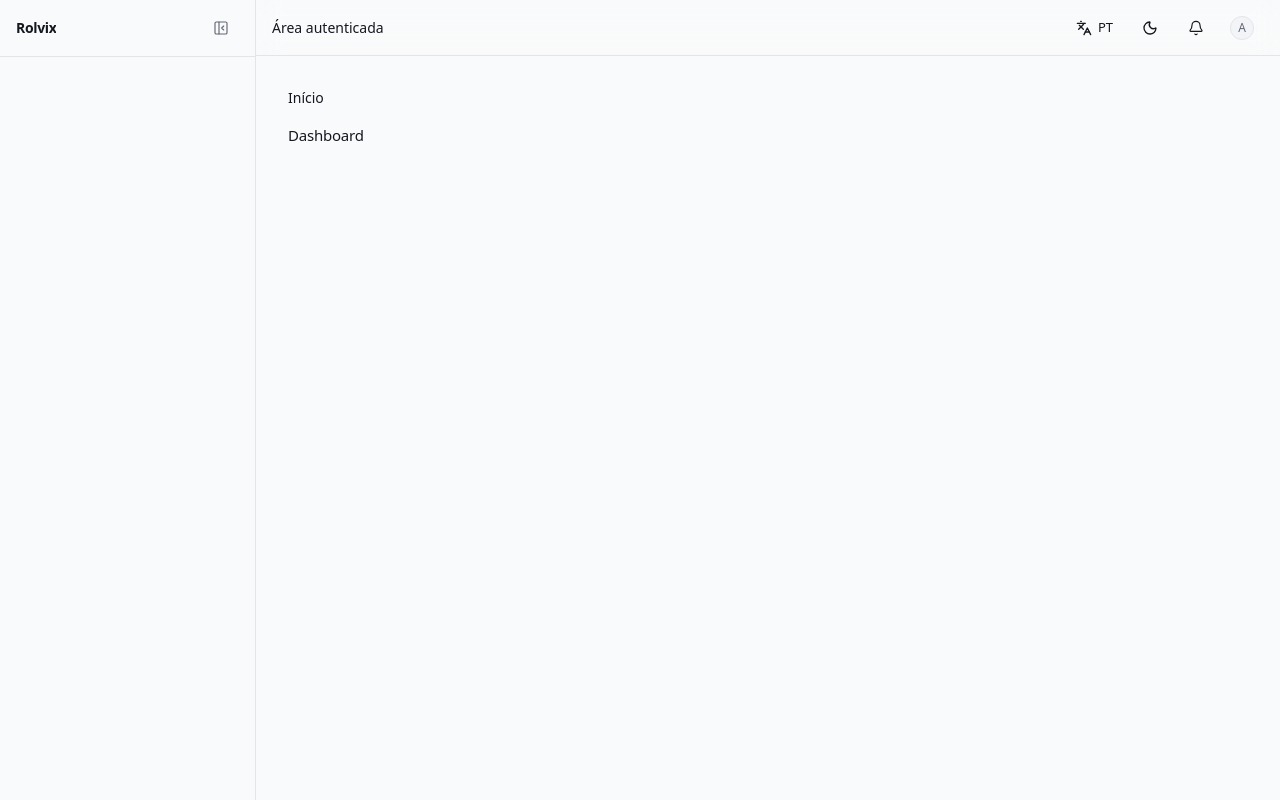
Test case: MainLayout header identity › falls back to the e-mail when the staff member has no full name
The width and height of the screenshot is (1280, 800).
expect the heading "Dashboard" is shown: met, box [288, 125, 364, 145]
Click the button named "Abrir menu da conta".
click(1242, 28)  # box [1220, 6, 1264, 50]
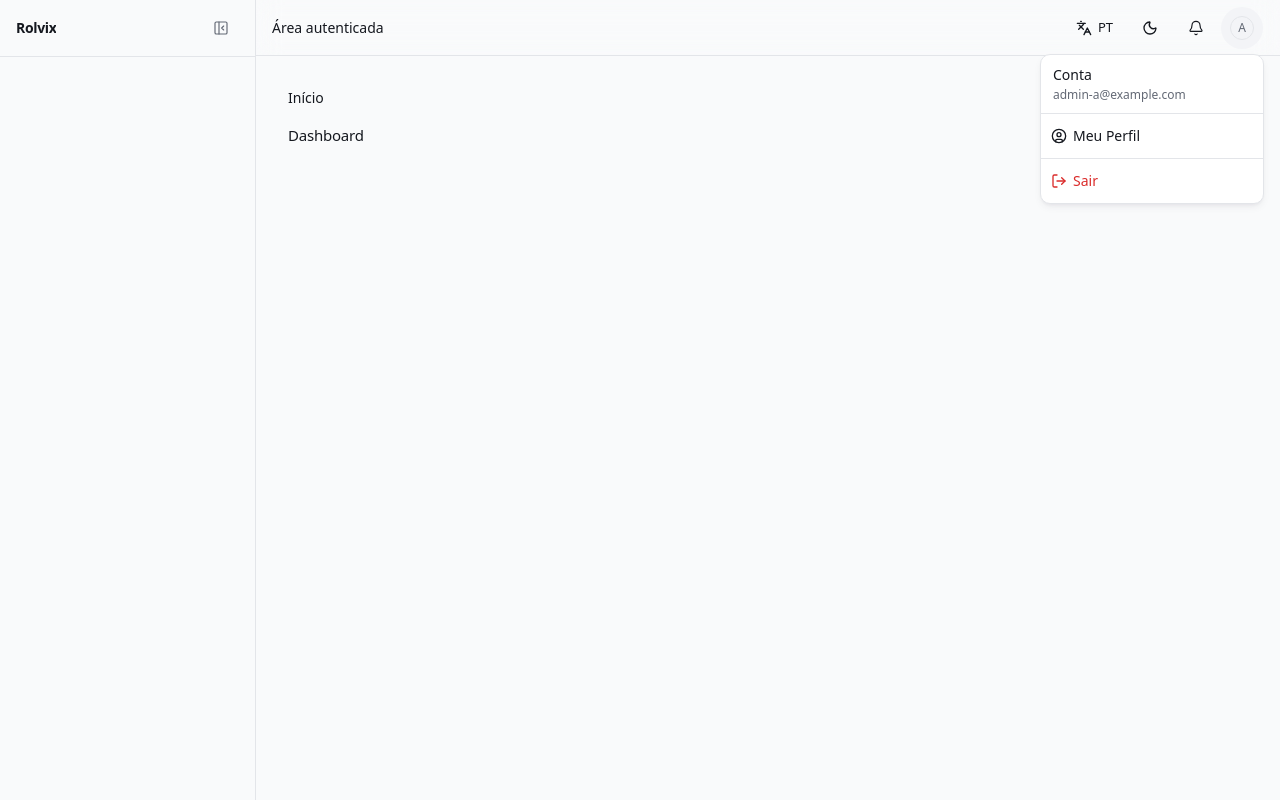
expect the text "admin-a@example.com" is shown: met, box [1053, 86, 1186, 103]
